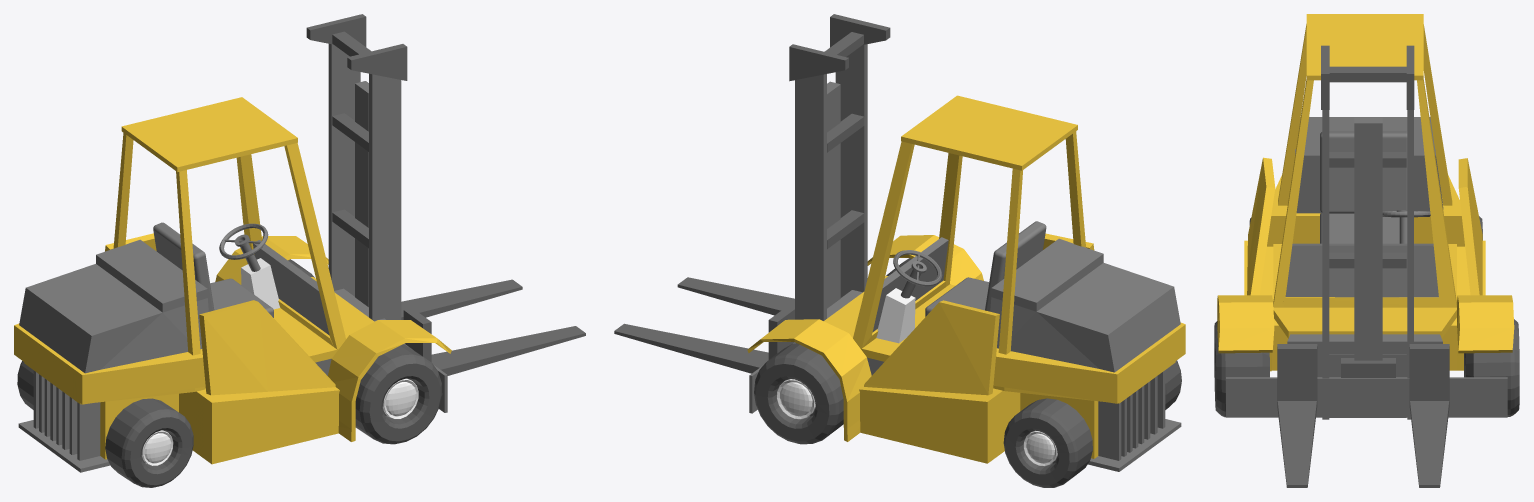
The picture shows the model from 3 angles, left to right: view 1: azimuth 30°, elevation 25°; view 2: azimuth 150°, elevation 25°; view 3: azimuth 270°, elevation 25°; orthographic projection. The views are drawn at different scales.
Parts seen in each view (by area): view 1: Back_base, Roof_body, Base_2, Door_left, Lift_Rail, Roof, Back_part, Lift_Rail_2, Wheel_front_right_2, Wheel_back_right_2, WheelCap_2, Fork_right (+18 smaller); view 2: Back_base, Roof_body, Base_2, Door_Right, Lift_Rail_2, Roof, Back_part, Lift_Rail, Wheel_front_left_2, Wheel_back_left_2, WheelCap, Fork_left (+18 smaller); view 3: Roof_body, Fork_horizontal, Rail, Roof, Front_base, Fork_right, Fork_left, Back_base, Cube_19, WheelCap, WheelCap_2, Back_part (+16 smaller).
Boxes of the visible parts, x1,y1,x2,y2 form: Back_base: [19, 239, 208, 373]; Roof_body: [24, 133, 374, 404]; Base_2: [179, 387, 339, 464]; Door_left: [199, 300, 335, 395]; Lift_Rail: [369, 73, 401, 320]; Roof: [121, 97, 297, 171]; Back_part: [14, 323, 205, 404]; Lift_Rail_2: [328, 44, 360, 296]; Wheel_front_right_2: [355, 344, 442, 444]; Wheel_back_right_2: [105, 398, 193, 487]; WheelCap_2: [328, 320, 451, 441]; Fork_right: [403, 308, 585, 375]; Back_base: [990, 238, 1180, 372]; Roof_body: [824, 131, 1175, 403]; Base_2: [859, 386, 1020, 463]; Door_Right: [864, 300, 999, 395]; Lift_Rail_2: [795, 74, 826, 342]; Roof: [901, 95, 1077, 170]; Back_part: [993, 322, 1185, 403]; Lift_Rail: [835, 44, 867, 297]; Wheel_front_left_2: [754, 343, 843, 444]; Wheel_back_left_2: [1003, 398, 1092, 487]; WheelCap: [747, 319, 871, 441]; Fork_left: [614, 306, 794, 373]; Roof_body: [1273, 24, 1456, 338]; Fork_horizontal: [1226, 377, 1507, 417]; Rail: [1354, 117, 1382, 360]; Roof: [1306, 14, 1423, 80]; Front_base: [1285, 243, 1438, 297]; Fork_right: [1277, 344, 1317, 487]; Fork_left: [1409, 344, 1449, 487]; Back_base: [1295, 117, 1443, 213]; Cube_19: [1320, 131, 1407, 213]; WheelCap: [1457, 295, 1514, 370]; WheelCap_2: [1217, 295, 1274, 371]; Back_part: [1267, 174, 1464, 246].
Size of the model in its own units: 517 by 346 by 262.
